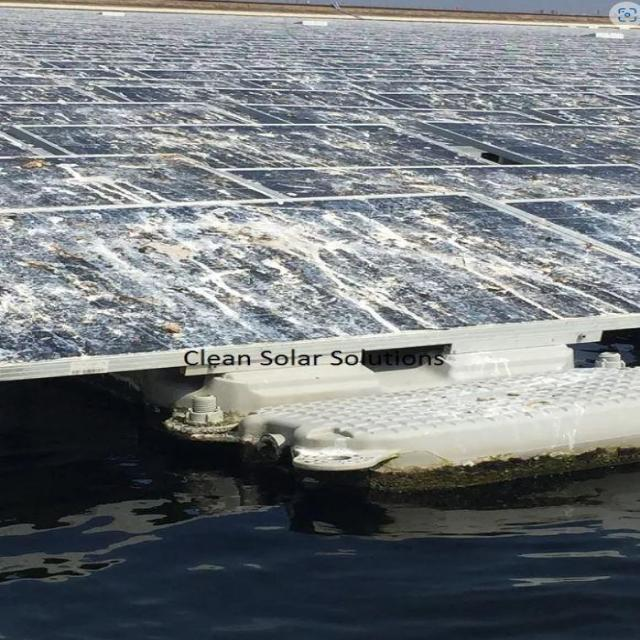soiled: (1, 6, 640, 382)
